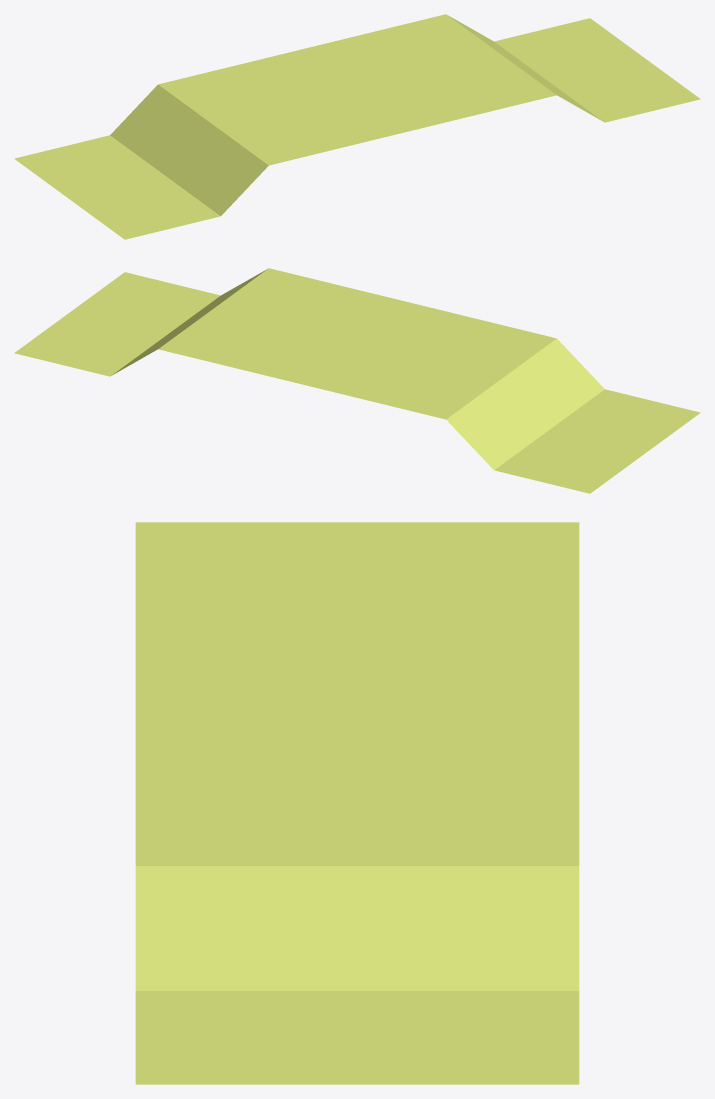
Rendered from Museum_Ceil_Window.fbx.
3 renders of one model, top to bottom at view 1: azimuth 30°, elevation 25°; view 2: azimuth 150°, elevation 25°; view 3: azimuth 270°, elevation 25°, orthographic. The views are drawn at different scales.
Visible parts, largest first — view 1: Archi_Annexes_Plafond_Glass.002; view 2: Archi_Annexes_Plafond_Glass.002; view 3: Archi_Annexes_Plafond_Glass.002.
Part boxes in pixels (x1,y1,x2,y2): Archi_Annexes_Plafond_Glass.002: (14,14,700,239); Archi_Annexes_Plafond_Glass.002: (14,268,700,493); Archi_Annexes_Plafond_Glass.002: (135,522,579,1084).
Size of the model in its own units: 1773 by 115 by 591.
